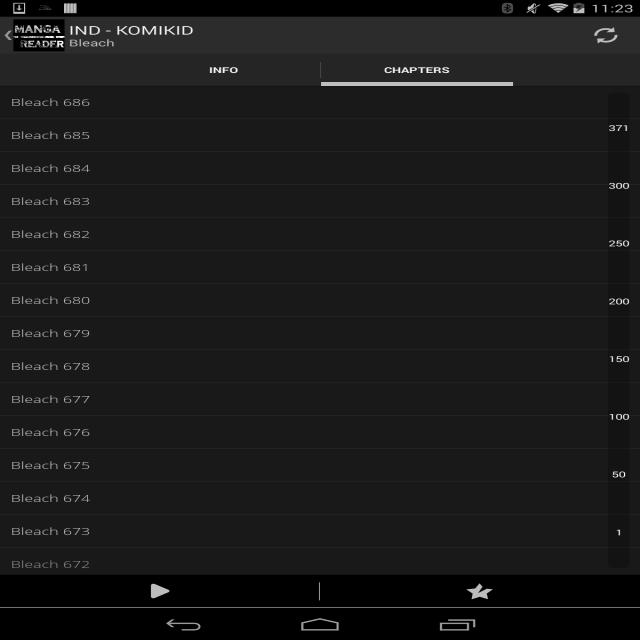ImageButton: (134, 576, 185, 608), (454, 576, 505, 608)
ImageView: (14, 19, 64, 52), (0, 30, 17, 41)
TextView: (0, 86, 133, 118), (0, 119, 133, 151), (0, 152, 133, 184), (0, 185, 133, 217), (0, 218, 133, 250), (0, 251, 133, 283), (0, 284, 133, 316), (0, 317, 133, 349), (0, 350, 133, 382), (0, 383, 133, 415), (0, 416, 133, 448), (0, 449, 133, 481), (0, 482, 133, 514), (0, 515, 133, 547), (0, 548, 133, 580), (571, 16, 640, 54), (69, 22, 194, 38), (384, 64, 450, 76), (68, 36, 114, 49), (209, 64, 238, 76)
